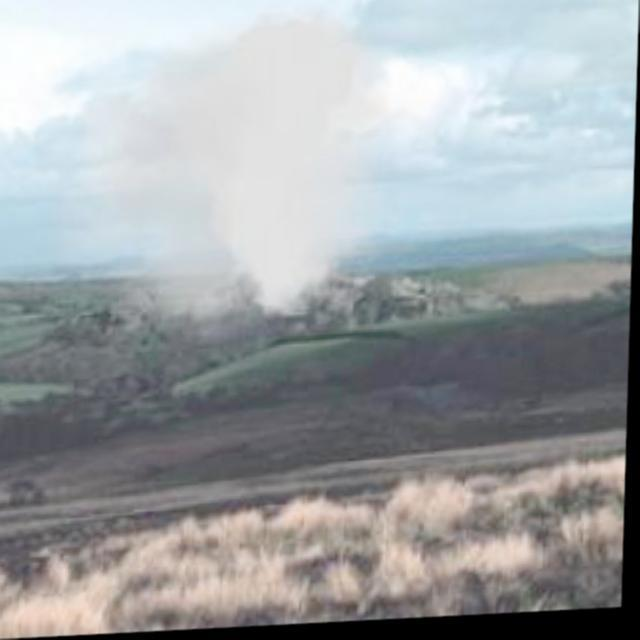Smoke: (80, 5, 408, 336)
